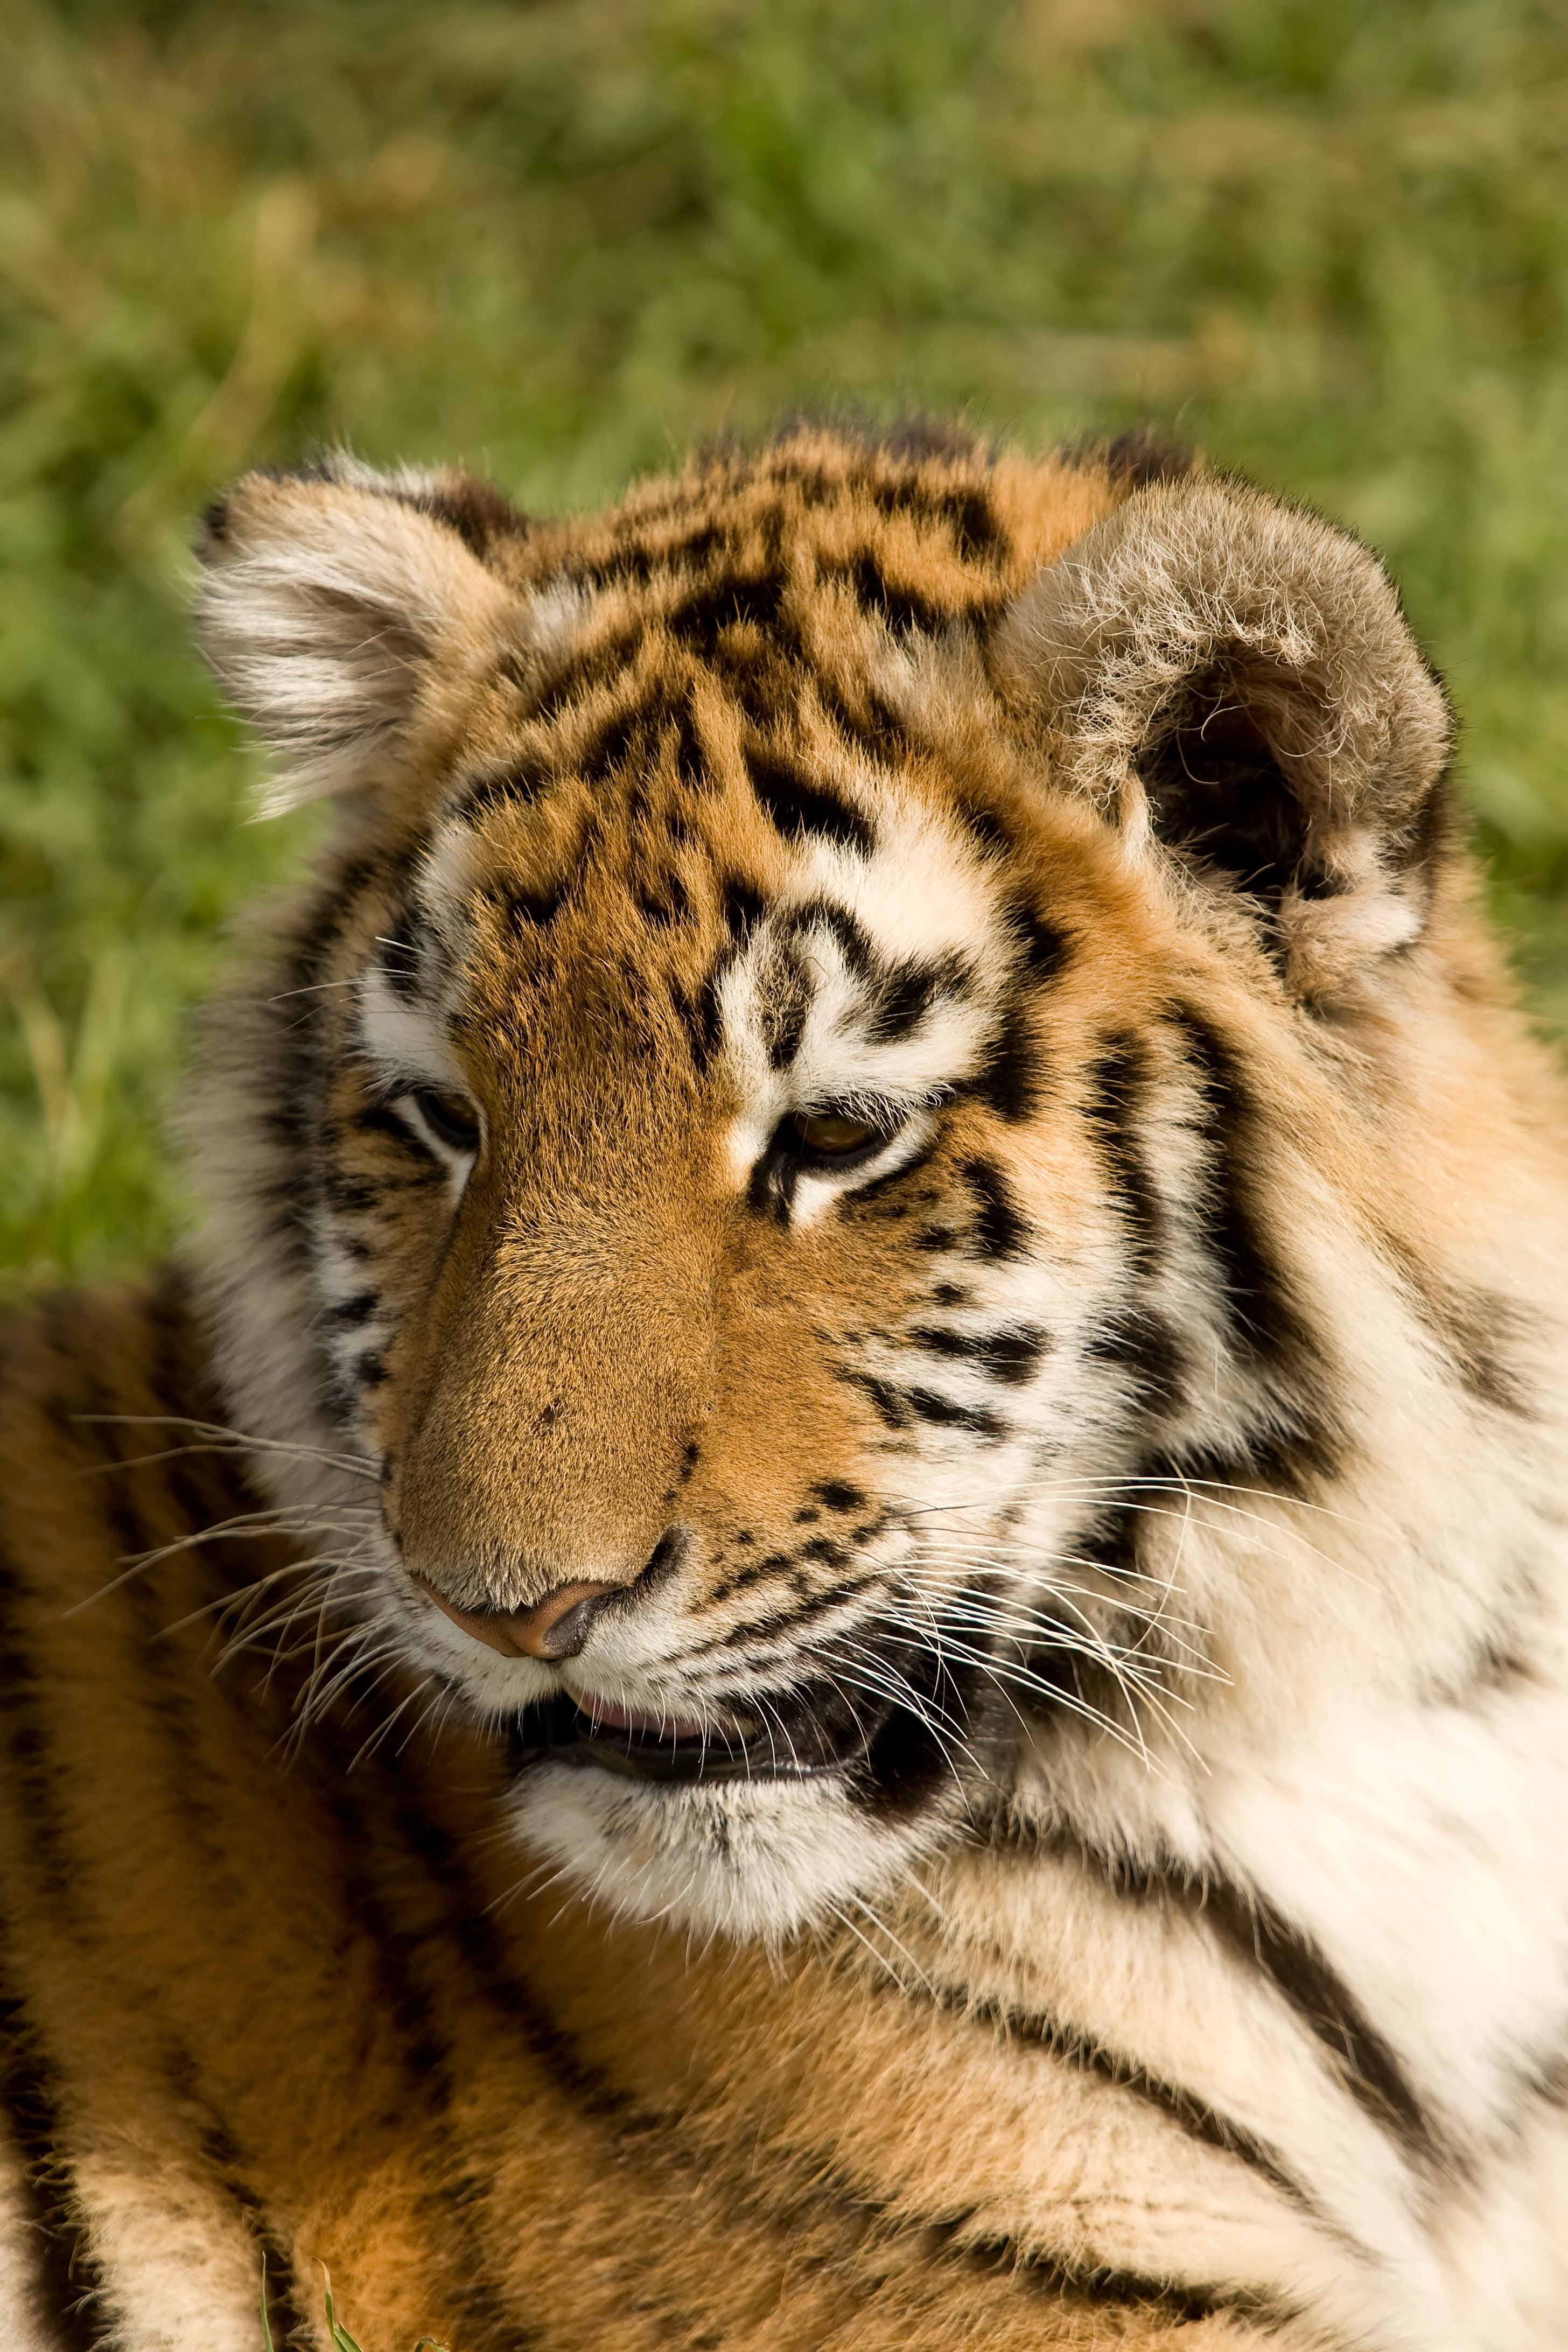tiger: (73, 325, 1568, 2320)
